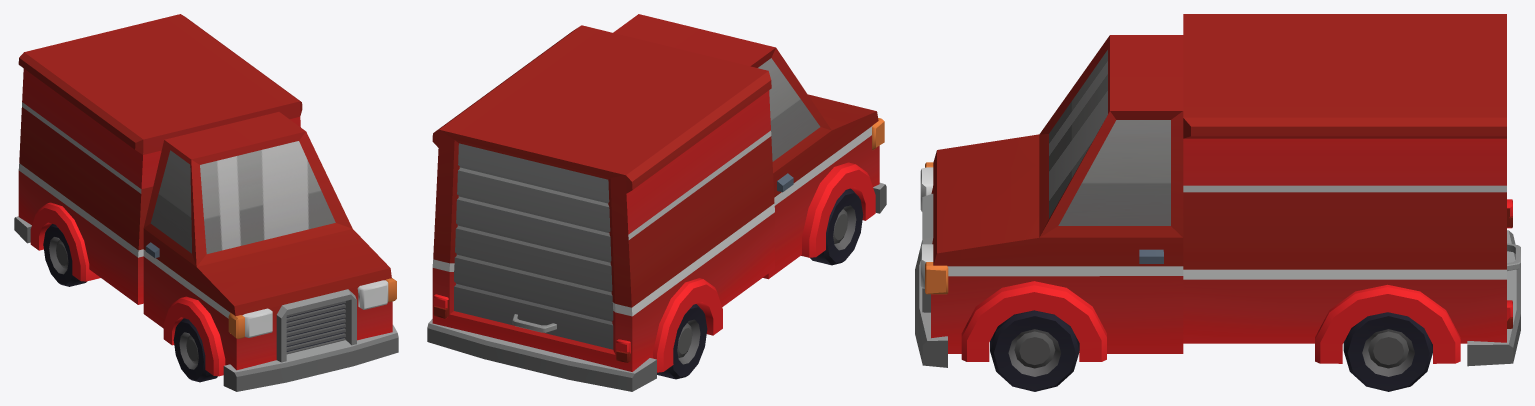
File: PostCar_3.glb
The picture shows the model from 3 angles, left to right: view 1: azimuth 30°, elevation 25°; view 2: azimuth 150°, elevation 25°; view 3: azimuth 270°, elevation 25°; orthographic projection. The views are drawn at different scales.
Parts seen in each view (by area): view 1: PostCar_3, Wheel_FR, Wheel_BR; view 2: PostCar_3, Wheel_FR, Wheel_BR; view 3: PostCar_3, Wheel_FL, Wheel_BL.
Part boxes in pixels (x1,y1,x2,y2): PostCar_3: [14, 14, 398, 391]; Wheel_FR: [173, 318, 217, 382]; Wheel_BR: [43, 224, 86, 286]; PostCar_3: [427, 14, 886, 391]; Wheel_FR: [810, 188, 863, 265]; Wheel_BR: [657, 304, 707, 379]; PostCar_3: [915, 14, 1520, 367]; Wheel_FL: [990, 310, 1079, 391]; Wheel_BL: [1343, 312, 1432, 391].
Size of the model in its own units: 1.18 by 1.24 by 2.51.
5 materials, 5 textured.
